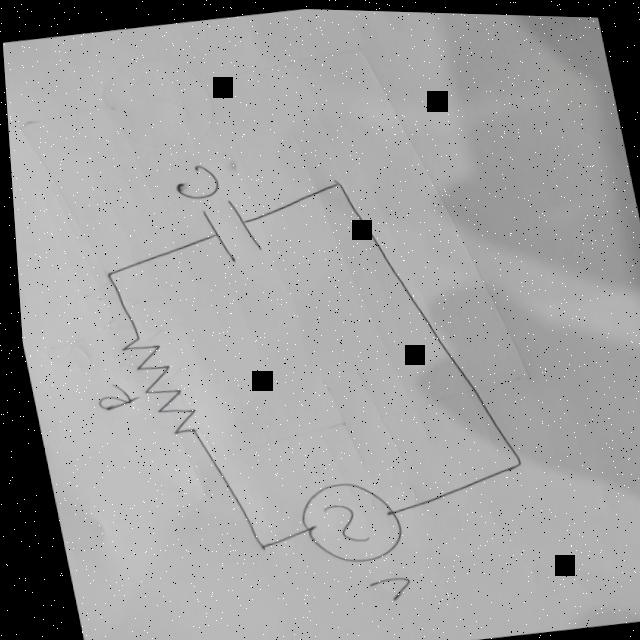capacitor: (194, 193, 264, 266)
junction: (325, 173, 344, 190), (96, 266, 115, 282), (245, 537, 264, 553), (504, 453, 520, 469)
resistor: (111, 328, 198, 440)
source: (284, 471, 402, 570)
text: (167, 159, 220, 202), (87, 380, 138, 413), (358, 571, 407, 604)
